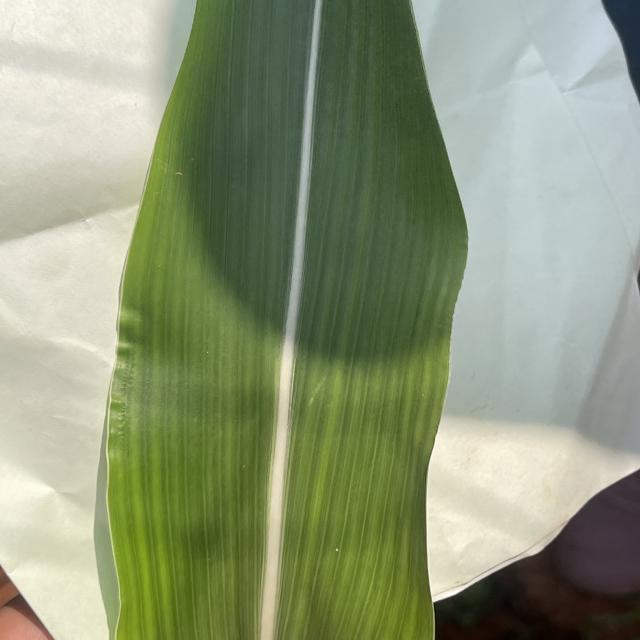millet_healthy: (106, 0, 467, 640)
